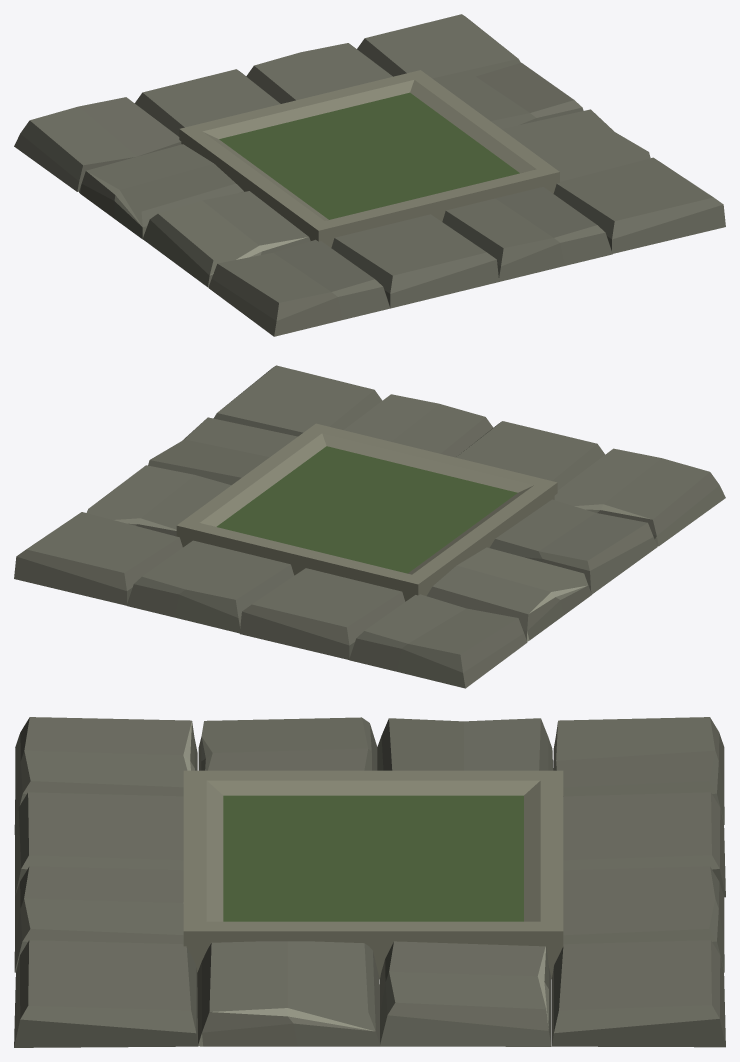
Rendered from Floor_Tree_GD.glb.
3 views of the same model, one above another, from view 1: azimuth 30°, elevation 25°; view 2: azimuth 150°, elevation 25°; view 3: azimuth 270°, elevation 25° (orthographic). The views are drawn at different scales.
Parts seen in each view (by area): view 1: Floor_Tree; view 2: Floor_Tree; view 3: Floor_Tree.
Boxes of the visible parts, <box> form: Floor_Tree: <box>14,14,725,336</box>; Floor_Tree: <box>14,365,725,688</box>; Floor_Tree: <box>14,717,725,1047</box>.
Bounding box in the file's own units: 29.88 × 2.23 × 29.93.
